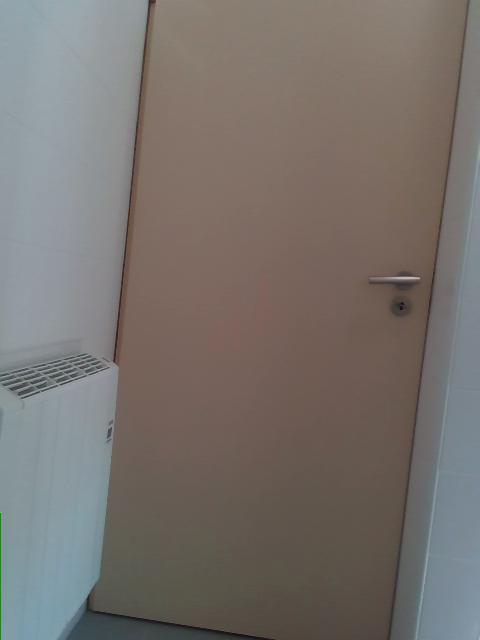closed_door: (84, 2, 476, 639)
